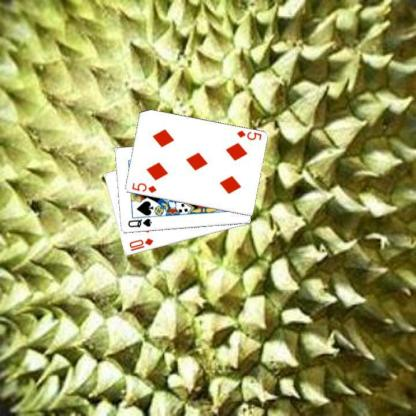10D: (127, 236, 154, 252)
5D: (129, 180, 158, 194), (234, 128, 262, 142)
QS: (125, 216, 153, 229)
